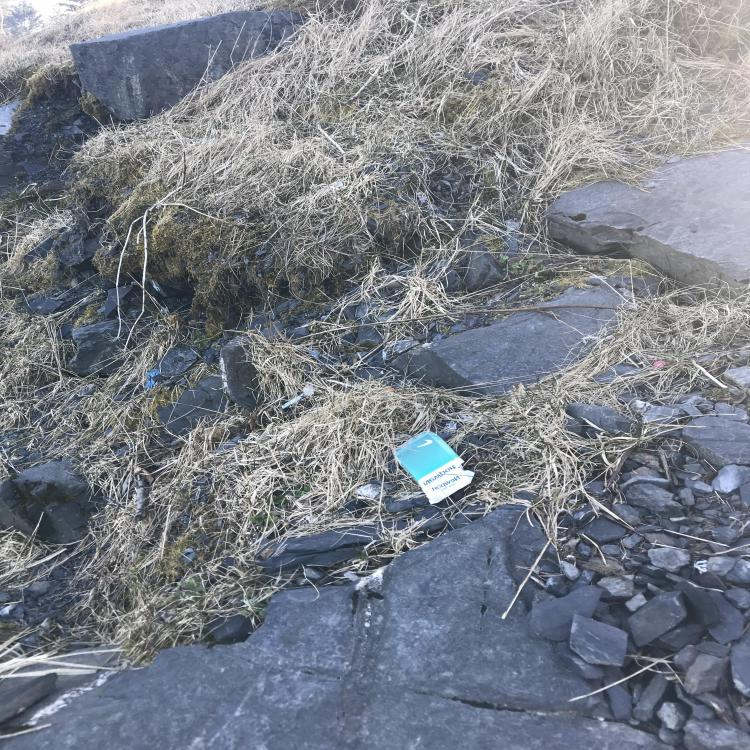Other carton: (392, 431, 476, 505)
Other plastic wrapper: (654, 362, 665, 369)
Unlabeled litter: (282, 393, 304, 409), (146, 369, 158, 388), (304, 384, 312, 396), (382, 350, 387, 359)
